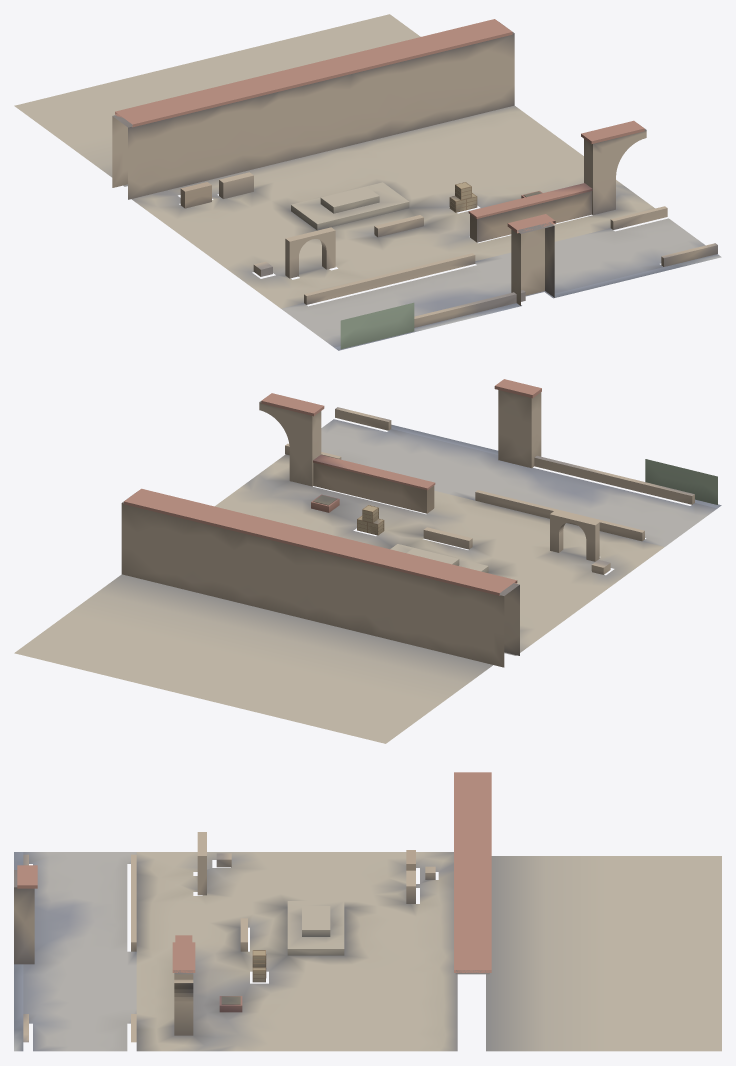
3 views of the same model, one above another, from view 1: azimuth 30°, elevation 25°; view 2: azimuth 150°, elevation 25°; view 3: azimuth 270°, elevation 25° (orthographic). The views are drawn at different scales.
Visible parts, largest first — view 1: t; view 2: t; view 3: t.
Part boxes in pixels (x1=…): t: x1=14, y1=14, x2=721, y2=350; t: x1=14, y1=379, x2=721, y2=743; t: x1=14, y1=772, x2=721, y2=1051.
Bounding box in the file's own units: 50.47 × 9.4 × 75.
